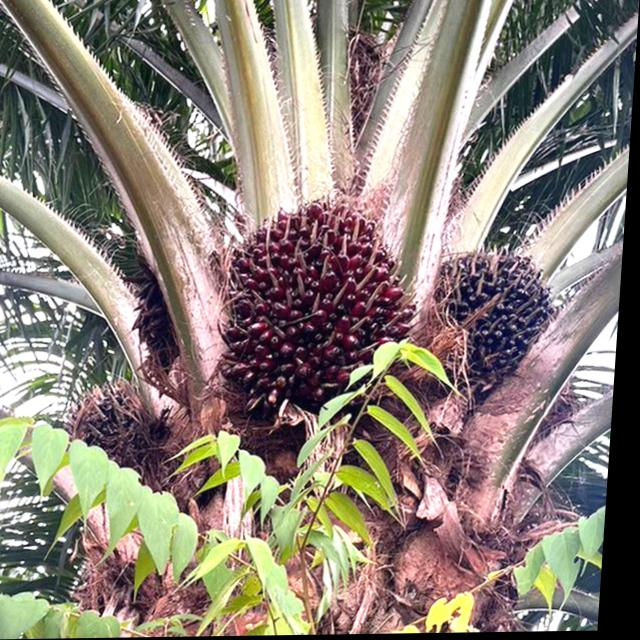ripe: (194, 164, 445, 440)
